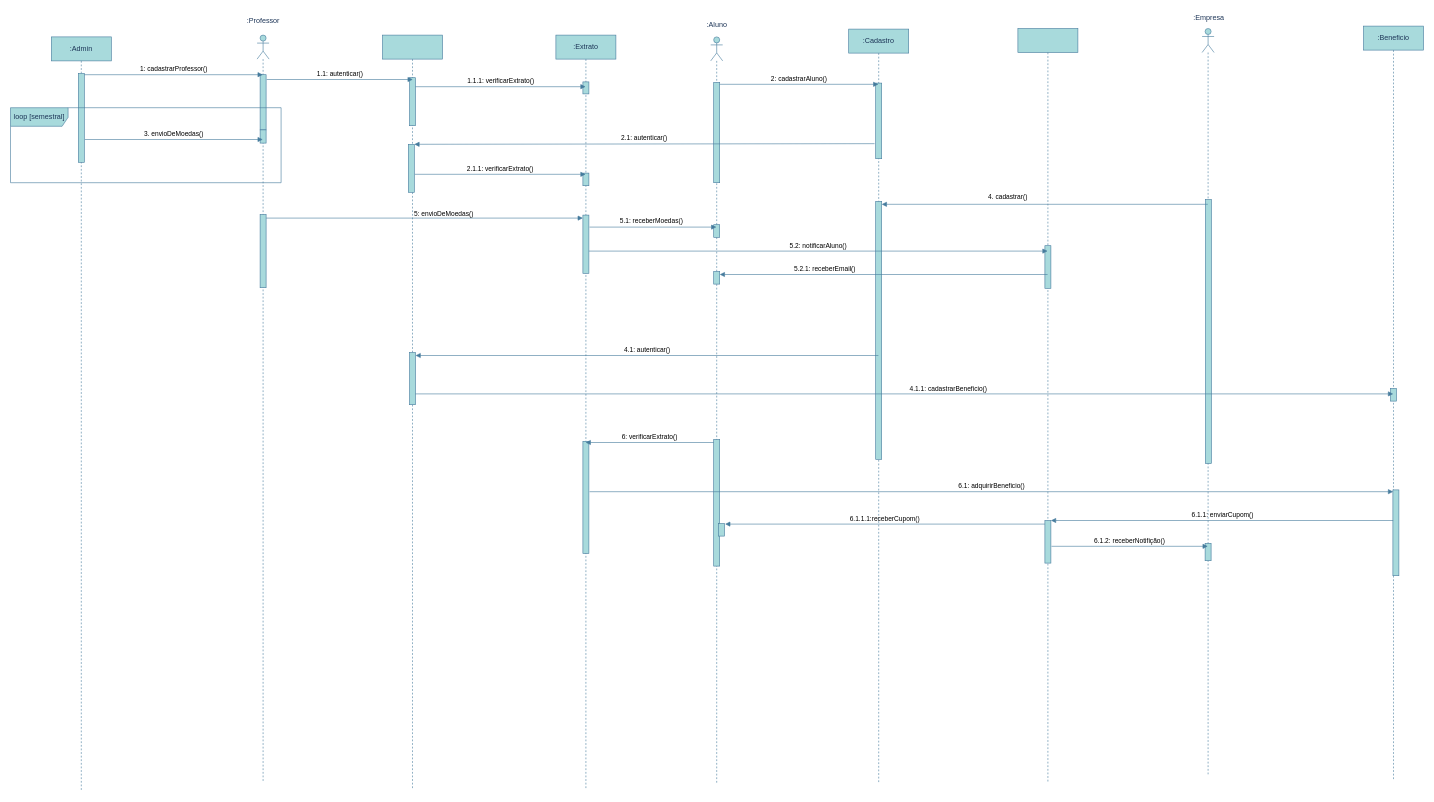
This 1434x802 diagram has some shape labels left out. The box of each missing label's shape, as (x1, y1, x2, y2) in pixels:
:Auth: (382, 34, 442, 790)
:e-mail: (1017, 28, 1078, 783)
